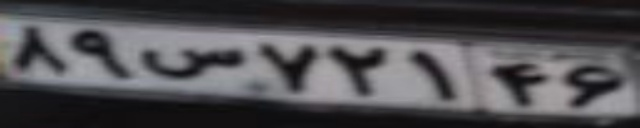1: (413, 49, 457, 98)
2: (329, 45, 393, 97)
4: (490, 61, 547, 106)
6: (562, 64, 621, 106)
7: (255, 43, 321, 93)
8: (9, 26, 66, 74)
9: (71, 29, 127, 79)
sin: (141, 47, 245, 79)
